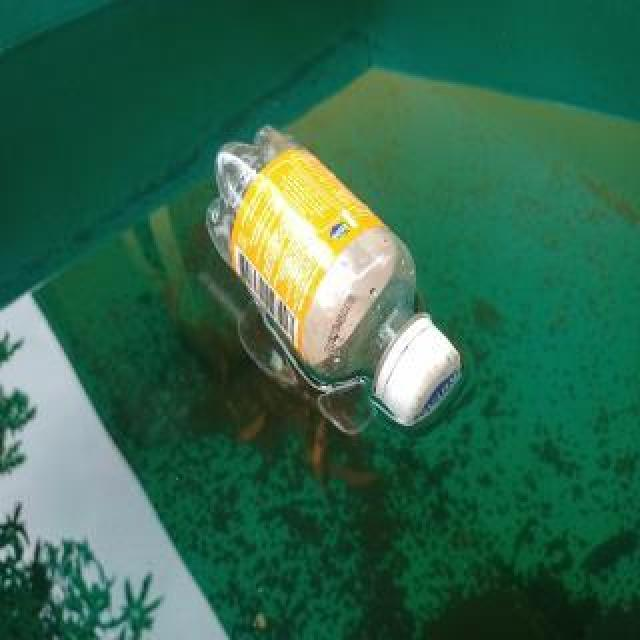bottle: (202, 120, 464, 430)
